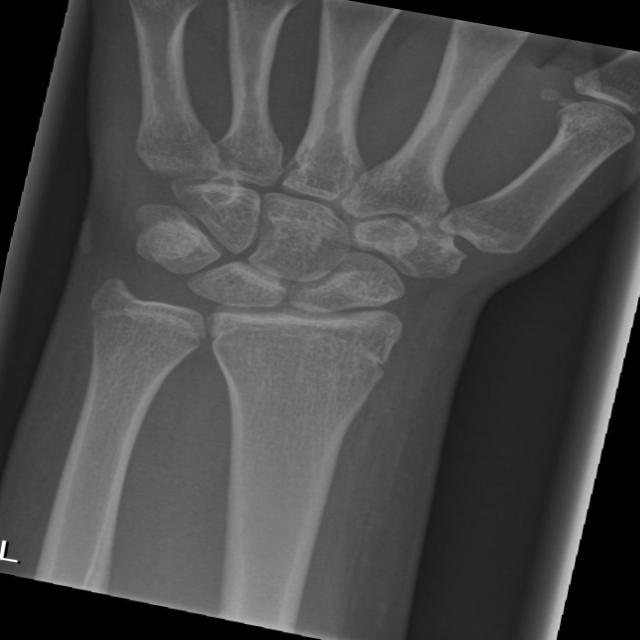fracture: (191, 296, 419, 389), (73, 275, 218, 358)
